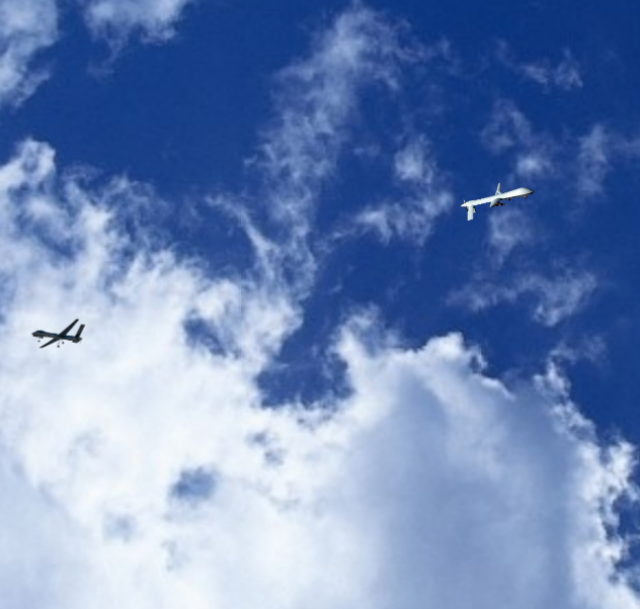military drone: (460, 182, 533, 221), (31, 318, 85, 348)
